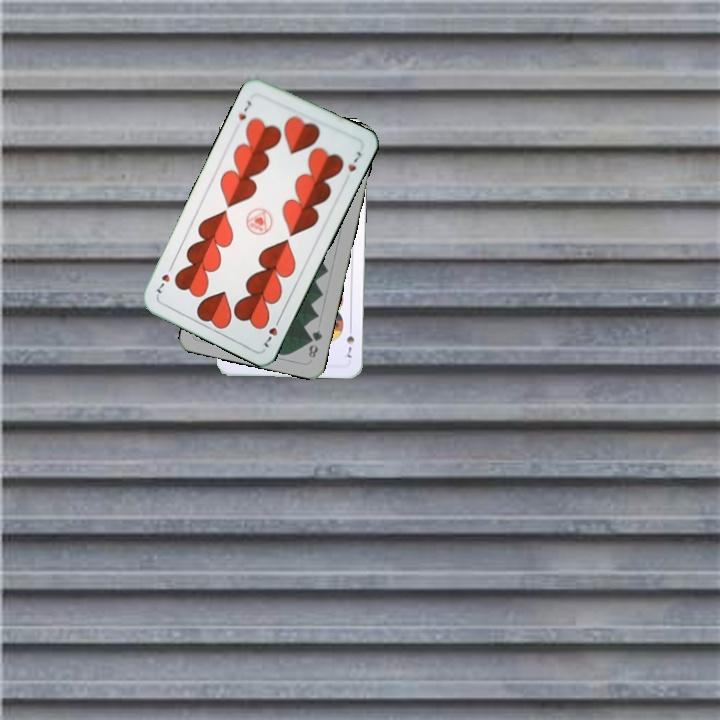G8: (304, 326, 325, 361)
H7: (259, 313, 284, 350), (234, 97, 255, 123)
S7: (342, 322, 357, 360)
